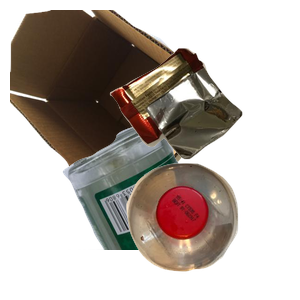cardboard: (10, 10, 218, 190)
glass: (60, 120, 300, 300)
plastic: (124, 161, 300, 300)
trash: (107, 46, 300, 198)
